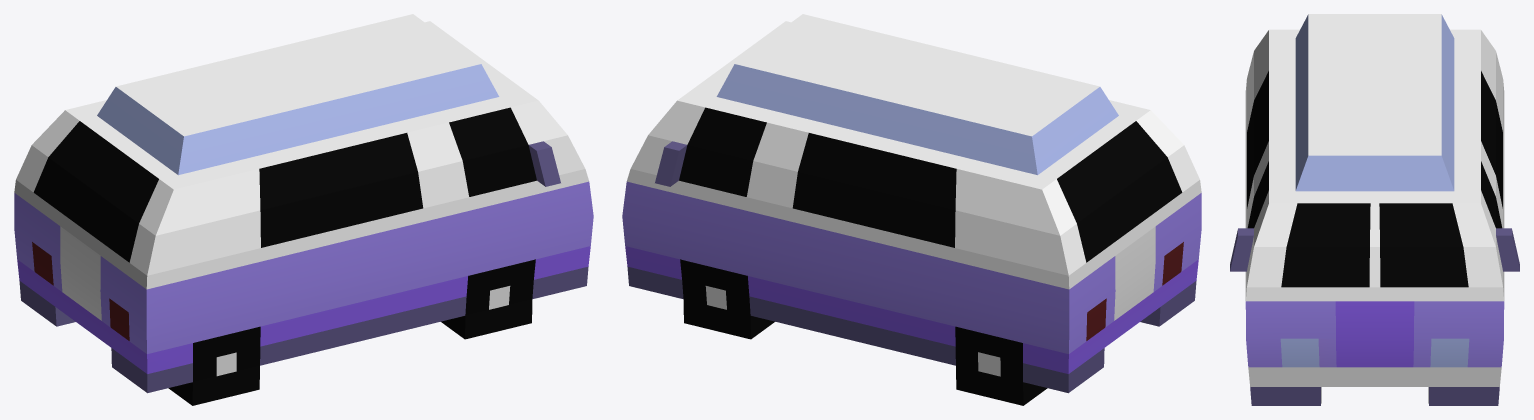
File: car4.FBX
3 views of the same model, side by side, from view 1: azimuth 30°, elevation 25°; view 2: azimuth 150°, elevation 25°; view 3: azimuth 270°, elevation 25° (orthographic). The views are drawn at different scales.
Visible parts, largest first — view 1: car3; view 2: car3; view 3: car3.
Part boxes in pixels (<box>): car3: <box>14,14,593,405</box>; car3: <box>622,14,1201,405</box>; car3: <box>1230,14,1519,405</box>.
Size of the model in its own units: 333 by 173 by 192.
